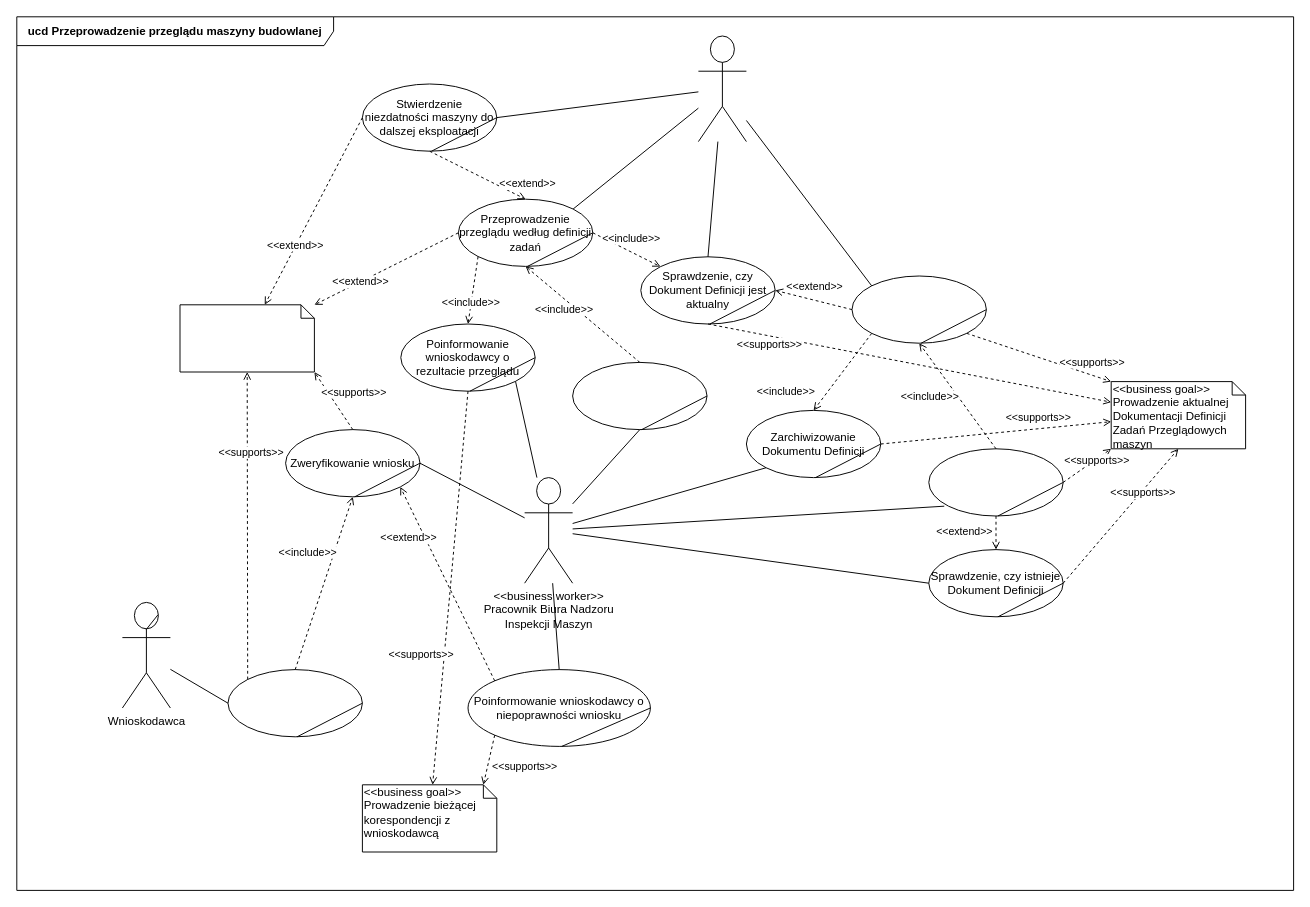
This 1310x907 diagram has some shape labels left out. Here are the shapes that lost their labels. From the top down, the box of each, then its label:
(697, 35, 746, 142): <<business worker>> Inspektor Maszyn
(851, 275, 986, 343): Utworzenie Dokumentu Definicji Zadań Przeglądowych
(179, 304, 314, 372): <<business goal>> Przeprowadzenie przeglądu maszyny budowlanej
(572, 361, 707, 430): Utworzenie dokumentu przeglądu
(928, 448, 1063, 516): Zlecenie stworzenia Dokumentu Definicji
(227, 669, 362, 737): Złożenie wniosku o przeprowadzenie przeglądu
